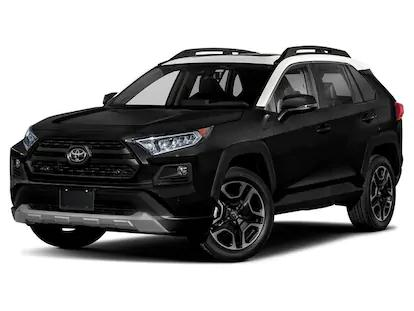Toyota RAV-4: (8, 51, 405, 263)
